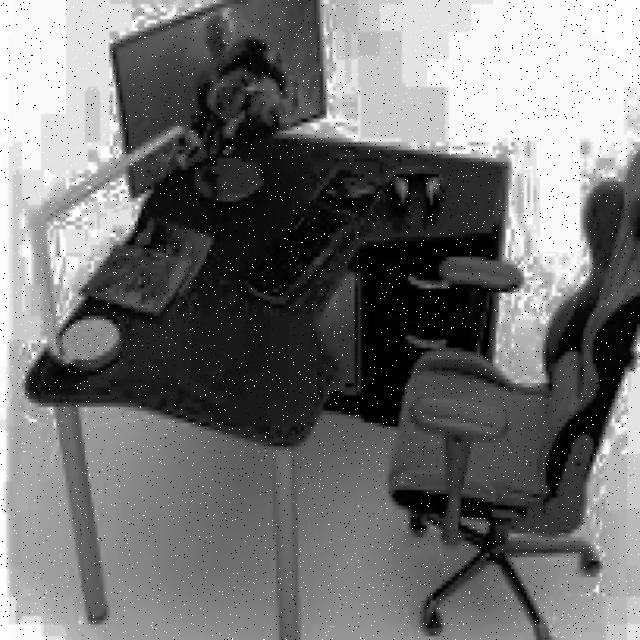book: (386, 130, 640, 640)
table: (22, 126, 508, 640)
